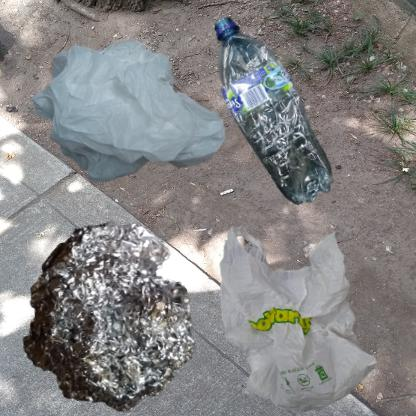aluminio: (10, 213, 204, 416)
bolsa: (10, 10, 284, 256), (213, 213, 384, 416)
botella: (213, 10, 338, 216)
